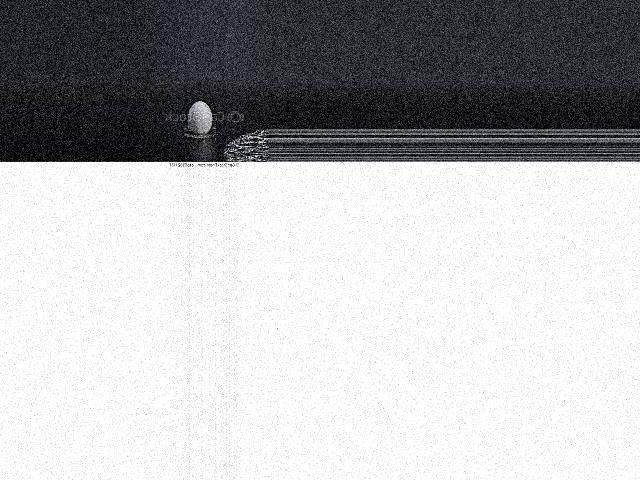egg: (187, 101, 212, 135)
